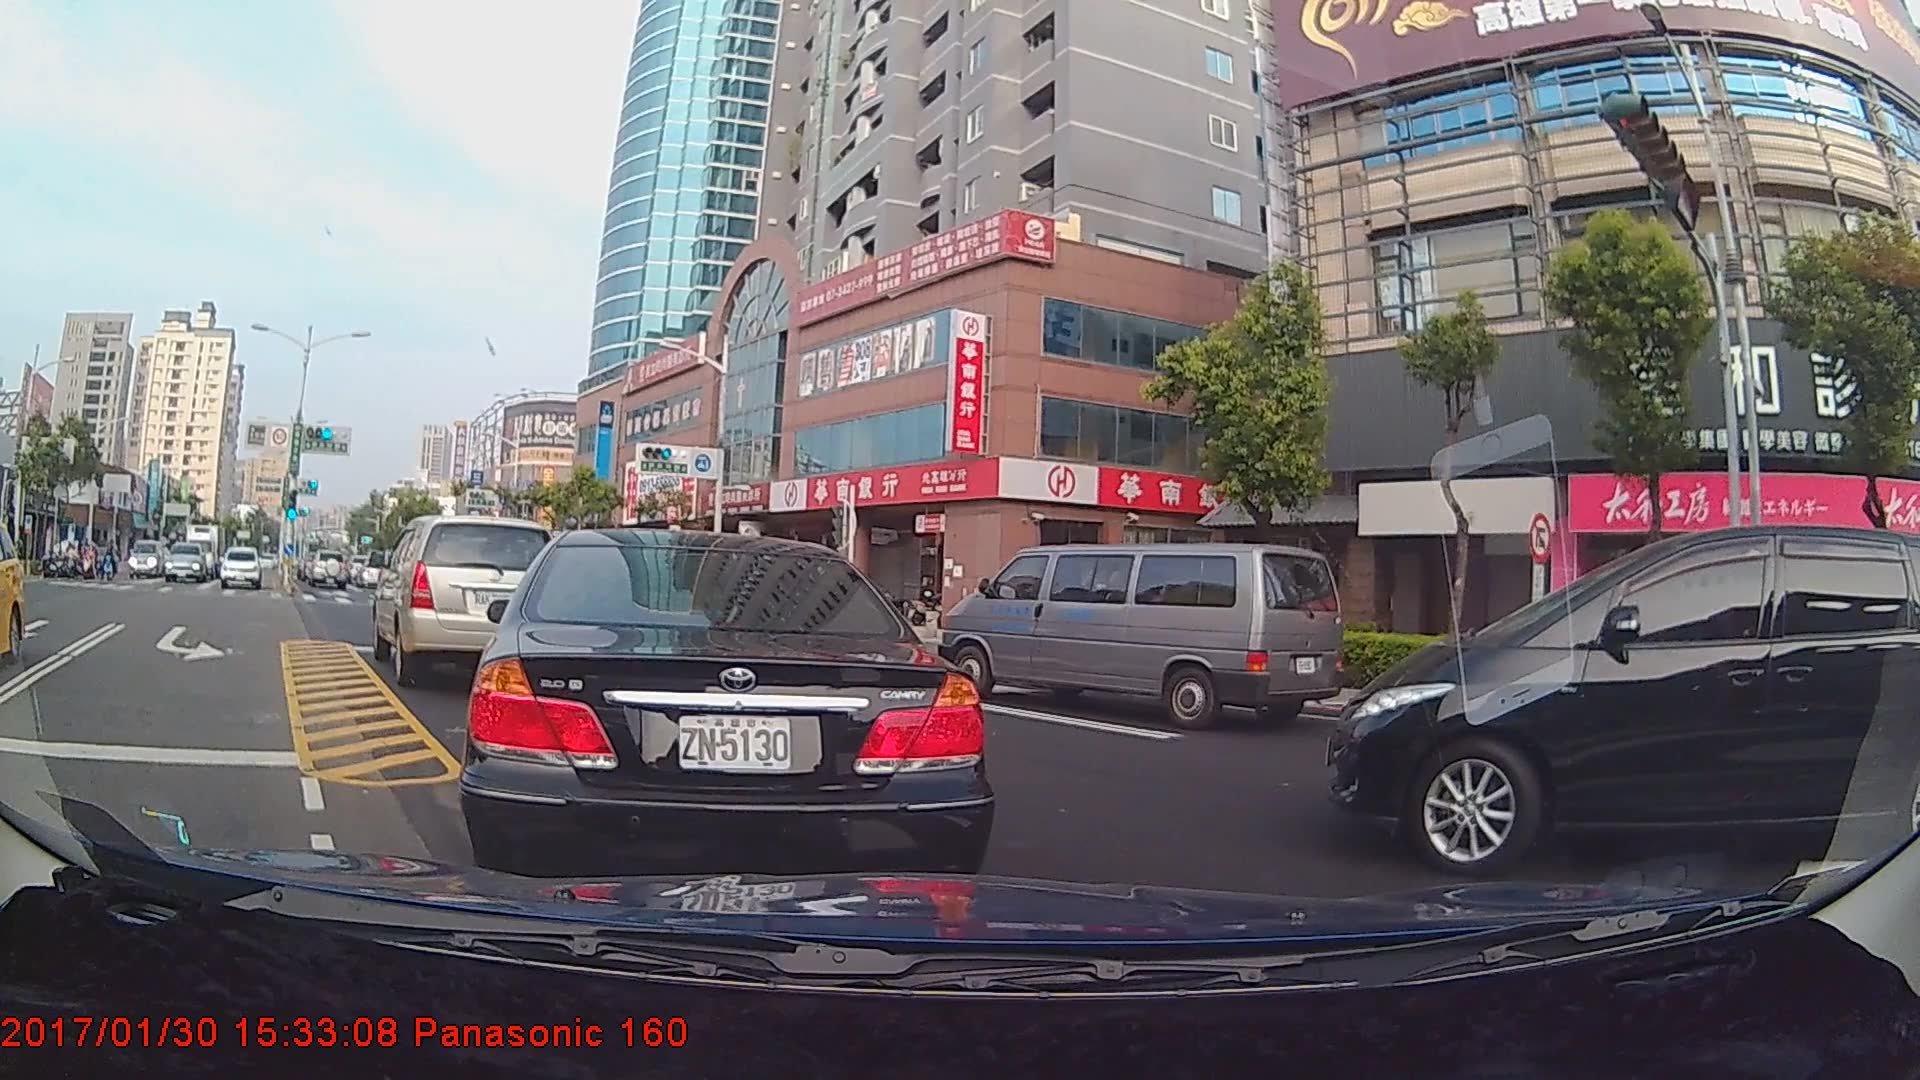vehicle: (1329, 530, 1905, 893), (473, 524, 978, 886), (930, 542, 1344, 736), (377, 513, 558, 684), (1, 531, 24, 663), (179, 524, 229, 574), (164, 541, 211, 584), (301, 547, 349, 589), (219, 545, 262, 589), (127, 538, 171, 579)
